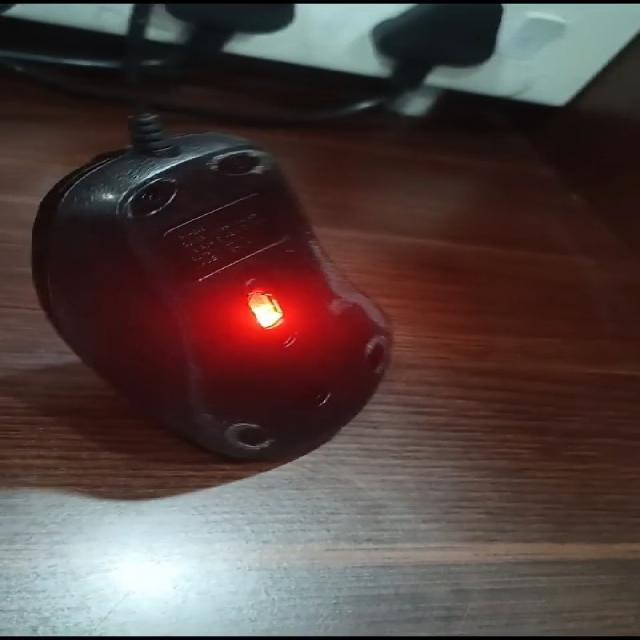mouse: (0, 74, 522, 537)
